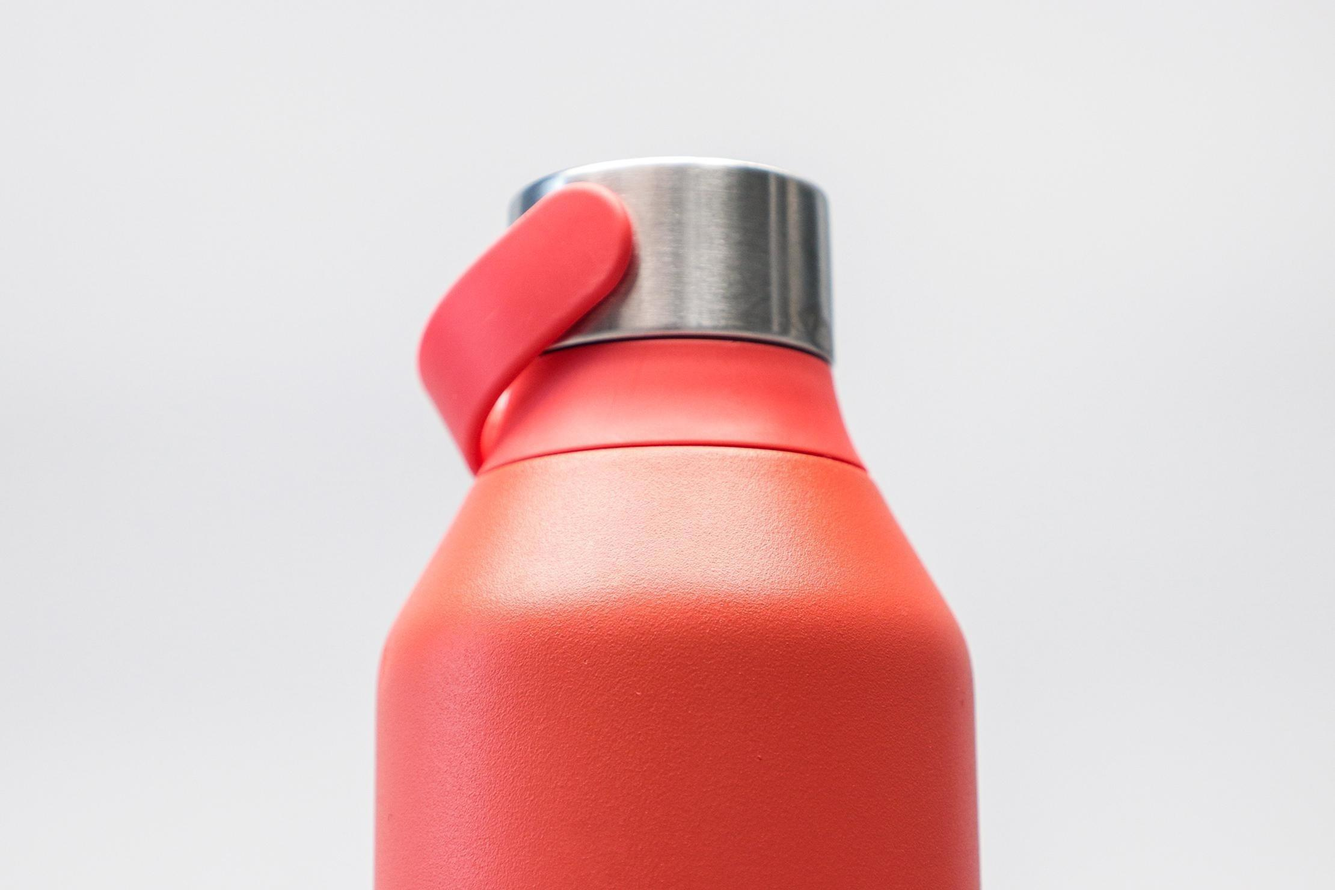gym bottle: (365, 152, 992, 889)
